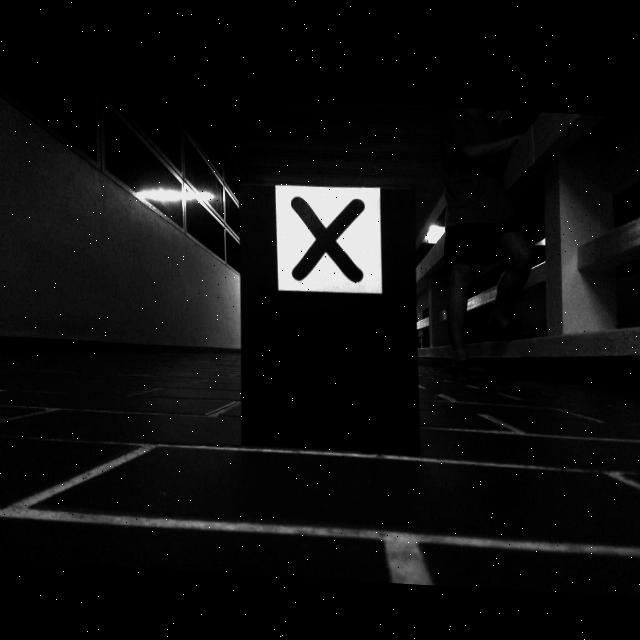X: (291, 193, 366, 279)
